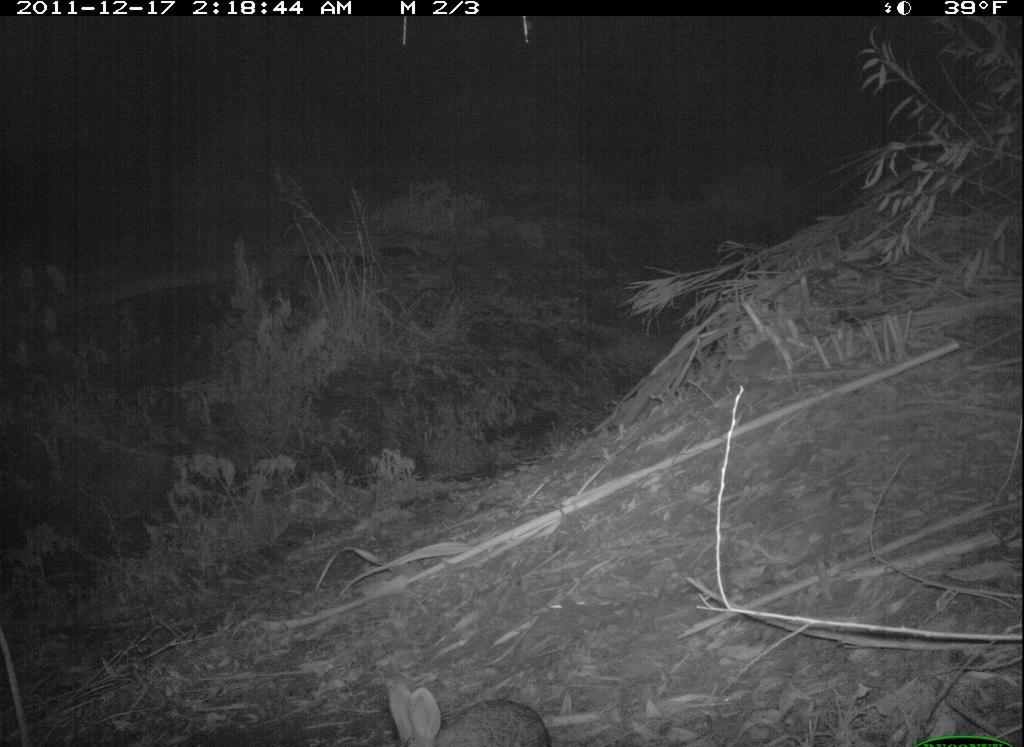rabbit: (368, 653, 559, 747)
